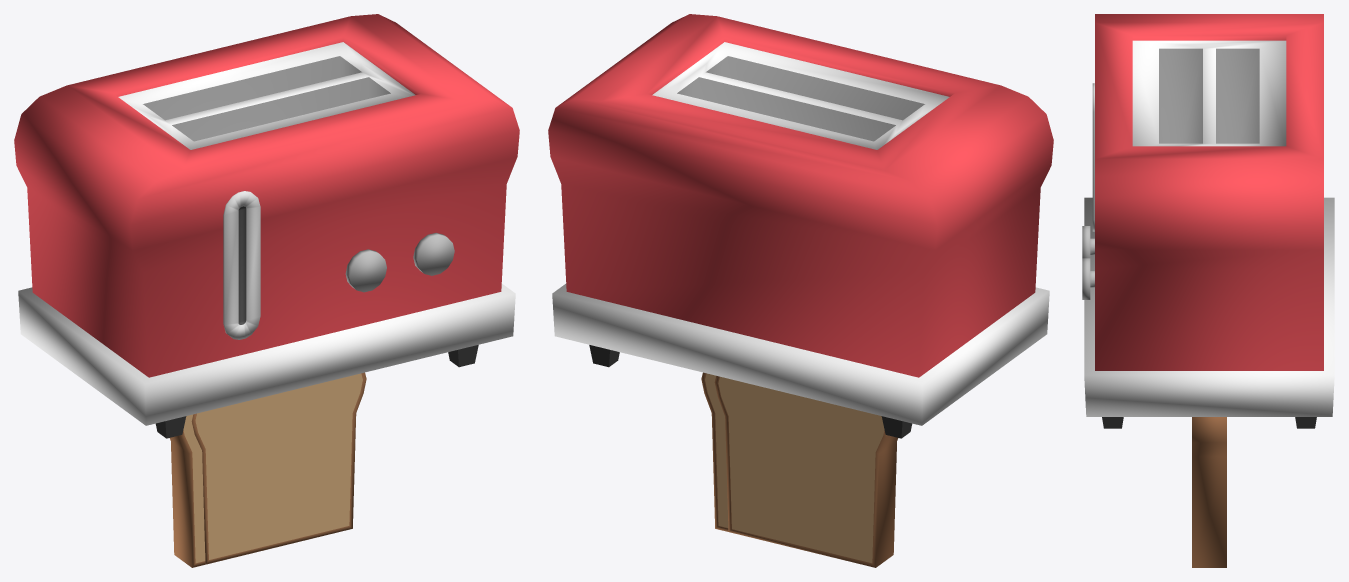
Rendered from Toaster.fbx.
3 views of the same model, side by side, from view 1: azimuth 30°, elevation 25°; view 2: azimuth 150°, elevation 25°; view 3: azimuth 270°, elevation 25° (orthographic).
Visible parts, largest first — view 1: Toaster, Toaster.Bread.Front, Toaster.Bread.Rear; view 2: Toaster, Toaster.Bread.Rear, Toaster.Bread.Front; view 3: Toaster, Toaster.Bread.Front.
Part boxes in pixels (box(x1,y1,x2,y2)): Toaster: box(14, 14, 519, 438); Toaster.Bread.Front: box(191, 372, 366, 564); Toaster.Bread.Rear: box(169, 414, 205, 567); Toaster: box(548, 14, 1053, 438); Toaster.Bread.Rear: box(714, 376, 898, 567); Toaster.Bread.Front: box(701, 372, 728, 531); Toaster: box(1082, 14, 1334, 428); Toaster.Bread.Front: box(1192, 417, 1226, 567).
Size of the model in its own units: 34.77 by 38.19 by 19.85.
